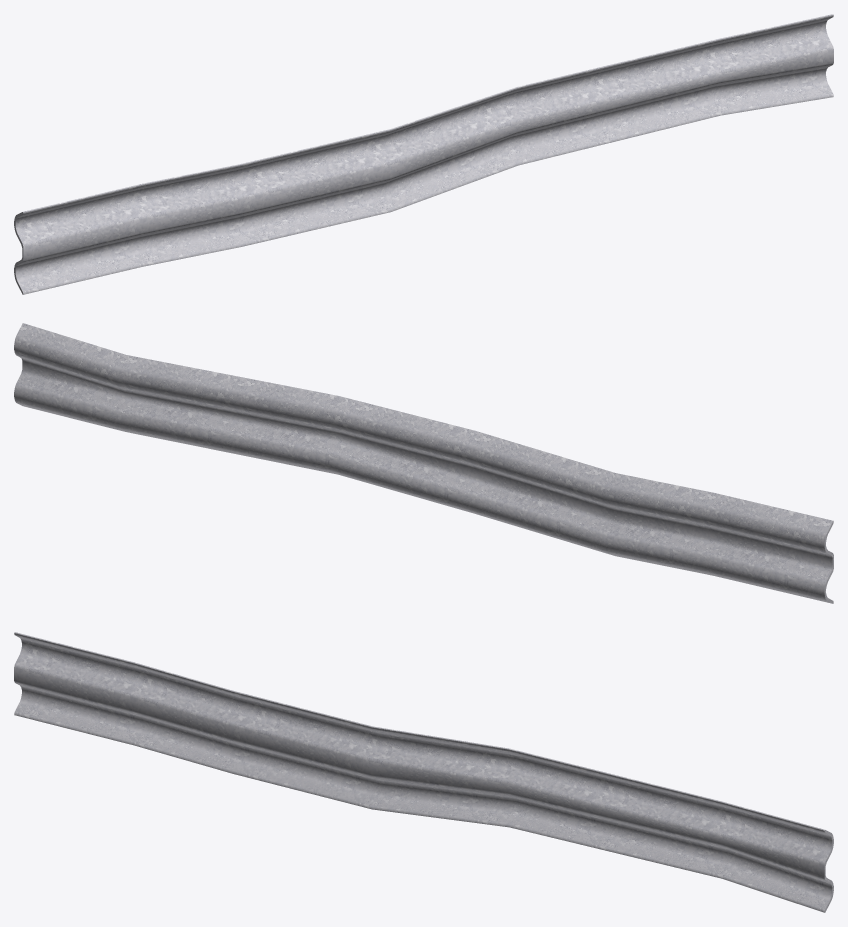
Rendered from Guard Rail2.FBX.
3 renders of one model, top to bottom at view 1: azimuth 30°, elevation 25°; view 2: azimuth 150°, elevation 25°; view 3: azimuth 330°, elevation 25°, orthographic.
Visible parts, largest first — view 1: guardrail_small_nocol; view 2: guardrail_small_nocol; view 3: guardrail_small_nocol.
Boxes of the visible parts, <box> form: guardrail_small_nocol: <box>14,14,833,294</box>; guardrail_small_nocol: <box>14,323,833,603</box>; guardrail_small_nocol: <box>14,632,833,912</box>.
Size of the model in its own units: 589 by 64.38 by 24.44.
